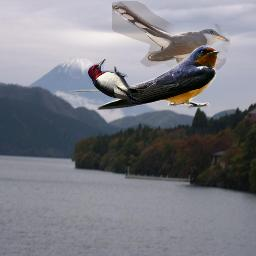Cuckoo: (112, 1, 230, 77)
Swallow: (67, 44, 221, 110)
Woodpecker: (85, 58, 144, 103)
